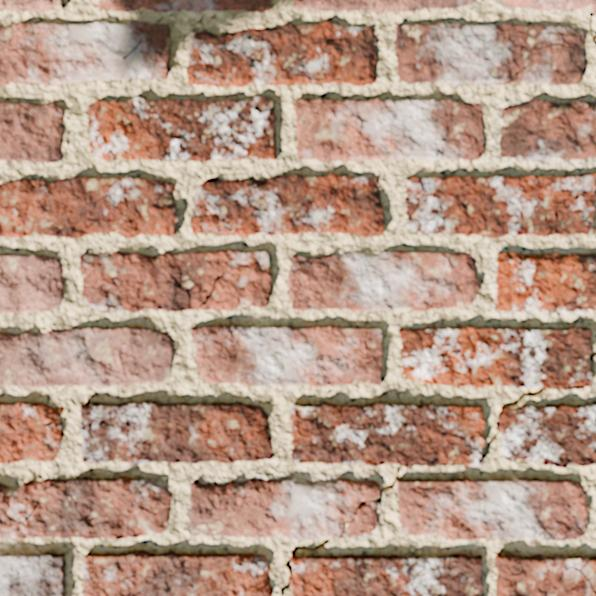brick: (291, 402, 484, 466), (405, 173, 595, 237), (191, 174, 383, 237), (187, 22, 376, 86), (88, 97, 275, 161), (80, 402, 271, 464), (80, 251, 271, 312), (399, 327, 592, 387), (395, 23, 584, 84), (295, 99, 483, 160), (398, 478, 586, 539), (192, 326, 381, 386), (289, 252, 479, 311), (0, 176, 178, 238), (0, 21, 169, 85), (0, 477, 171, 539), (0, 327, 173, 386), (83, 551, 271, 595), (291, 554, 482, 595), (499, 98, 595, 160), (496, 252, 595, 312), (501, 404, 595, 467), (495, 554, 595, 595), (0, 103, 63, 162), (0, 403, 62, 462), (0, 255, 62, 312), (0, 552, 65, 595), (293, 0, 475, 11), (90, 0, 270, 11), (0, 0, 61, 10), (583, 557, 595, 588), (290, 255, 313, 271), (578, 557, 588, 567)
broken_brick: (189, 478, 380, 540), (344, 500, 379, 537), (502, 0, 595, 11)
crack: (481, 386, 554, 460), (338, 464, 403, 536), (280, 538, 332, 595), (535, 189, 582, 235), (562, 556, 595, 594), (288, 259, 316, 292), (198, 325, 244, 343), (85, 403, 99, 446), (538, 530, 565, 541), (434, 462, 472, 469), (589, 9, 595, 45), (589, 351, 595, 375), (436, 148, 450, 158), (563, 385, 585, 389), (584, 504, 588, 517), (410, 463, 416, 466)
